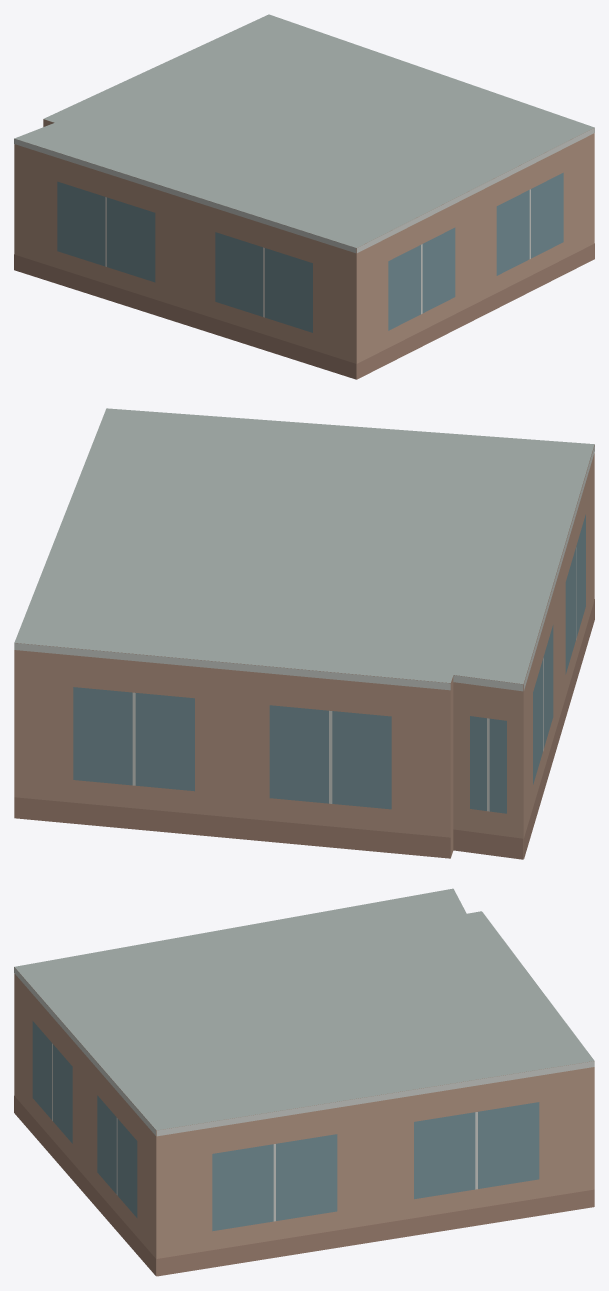
File: survey-upis-32918373.glb
The picture shows the model from 3 angles, top to bottom: view 1: azimuth 30°, elevation 25°; view 2: azimuth 150°, elevation 25°; view 3: azimuth 270°, elevation 25°; orthographic projection. The views are drawn at different scales.
Visible parts, largest first — view 1: survey-upis-32918373.tmp; view 2: survey-upis-32918373.tmp; view 3: survey-upis-32918373.tmp.
Part boxes in pixels (x1,y1,x2,y2): survey-upis-32918373.tmp: (14, 14, 594, 379); survey-upis-32918373.tmp: (14, 408, 594, 859); survey-upis-32918373.tmp: (14, 888, 594, 1276).
Bounding box in the file's own units: 10.85 × 3.05 × 11.
